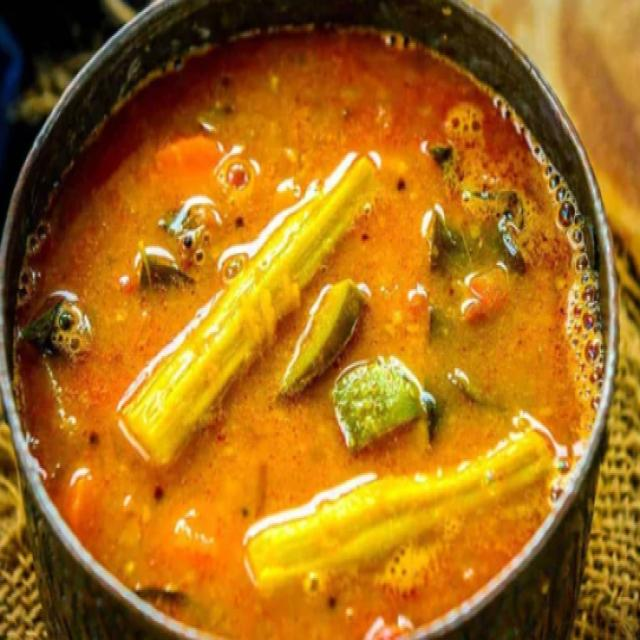sambar: (24, 30, 625, 632)
